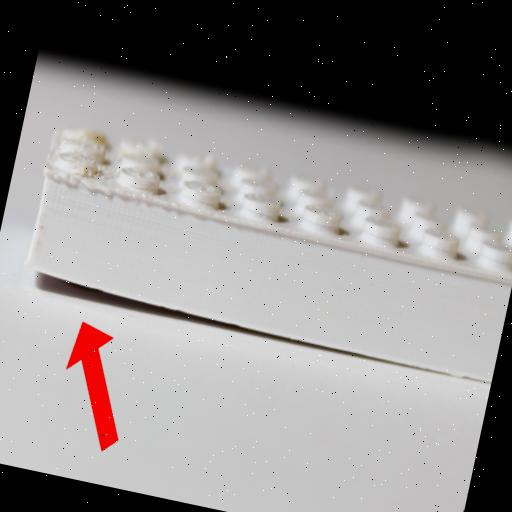cracks: (20, 257, 272, 339)
